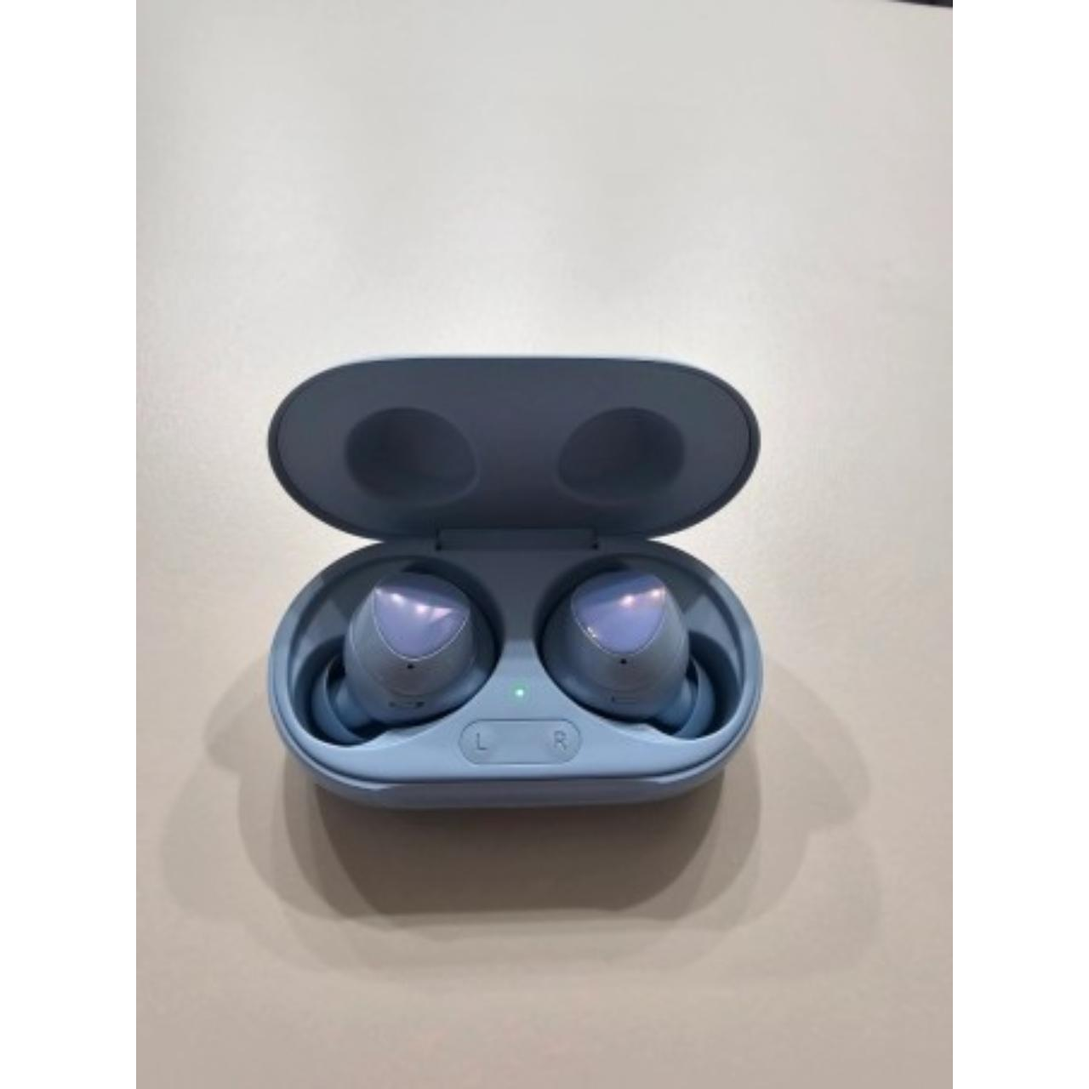Buds: (248, 347, 773, 817)
Buds_Units: (299, 555, 511, 745), (536, 557, 737, 747)
